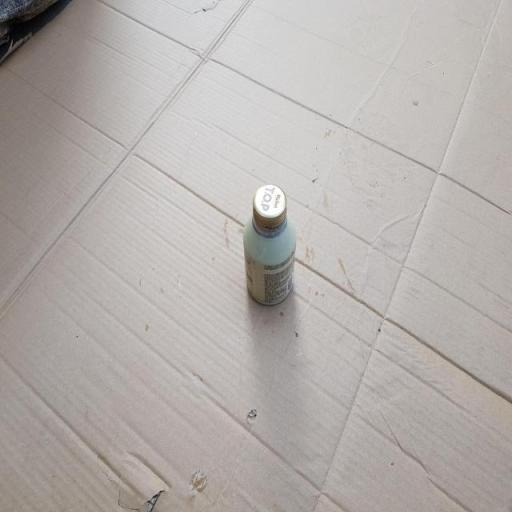metal: (236, 173, 314, 347)
